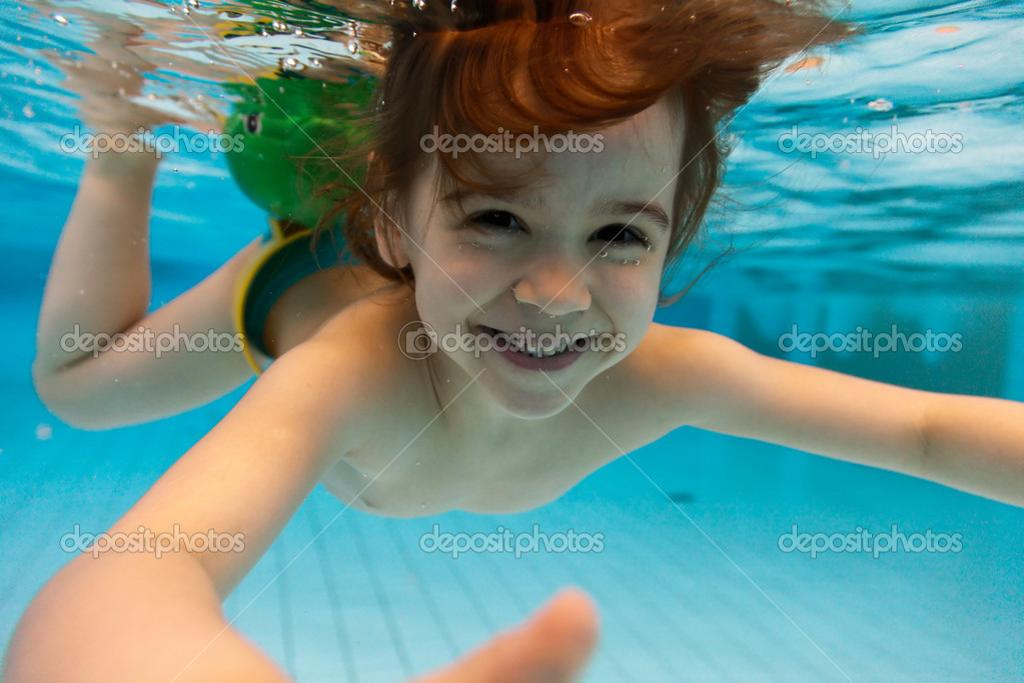face: (430, 122, 664, 412)
